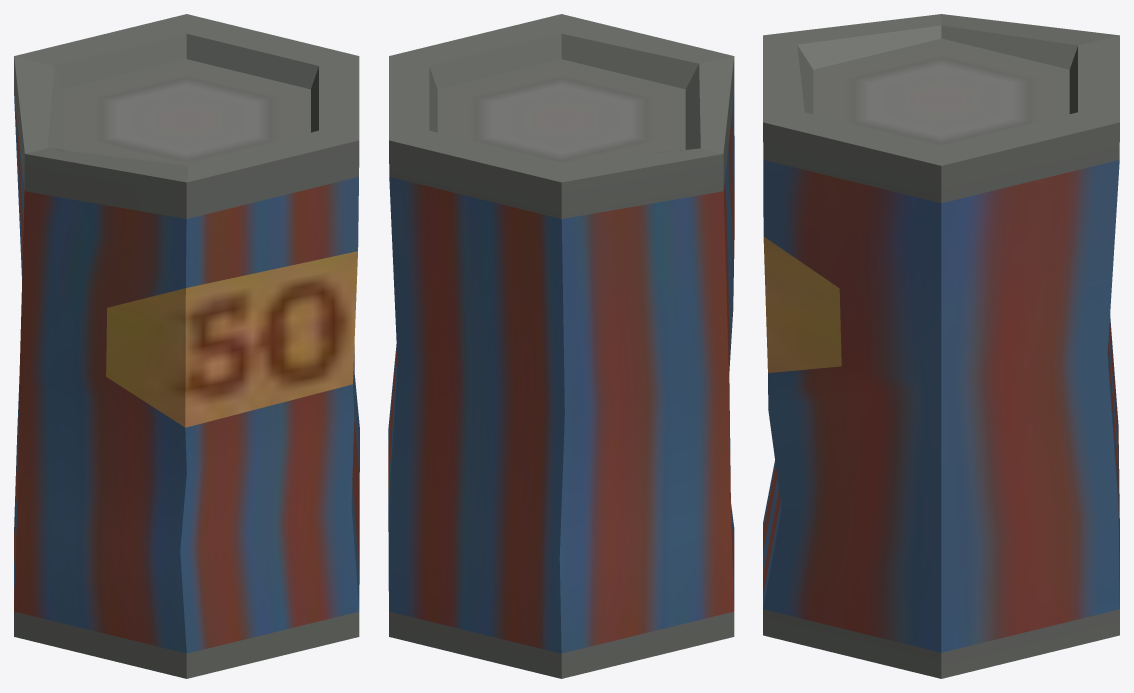
Rendered from SM_Prop_Can_Toss_Can_02.glb.
The picture shows the model from 3 angles, left to right: view 1: azimuth 30°, elevation 25°; view 2: azimuth 150°, elevation 25°; view 3: azimuth 270°, elevation 25°; orthographic projection. The views are drawn at different scales.
Visible parts, largest first — view 1: SM_Prop_Can_Toss_Can_02; view 2: SM_Prop_Can_Toss_Can_02; view 3: SM_Prop_Can_Toss_Can_02.
Boxes of the visible parts, x1,y1,x2,y2 form: SM_Prop_Can_Toss_Can_02: (14, 14, 359, 678); SM_Prop_Can_Toss_Can_02: (388, 14, 734, 678); SM_Prop_Can_Toss_Can_02: (763, 14, 1119, 678).
Bounding box in the file's own units: 14.87 × 20.4 × 12.86.
Materials: 1 (1 with a texture image).
